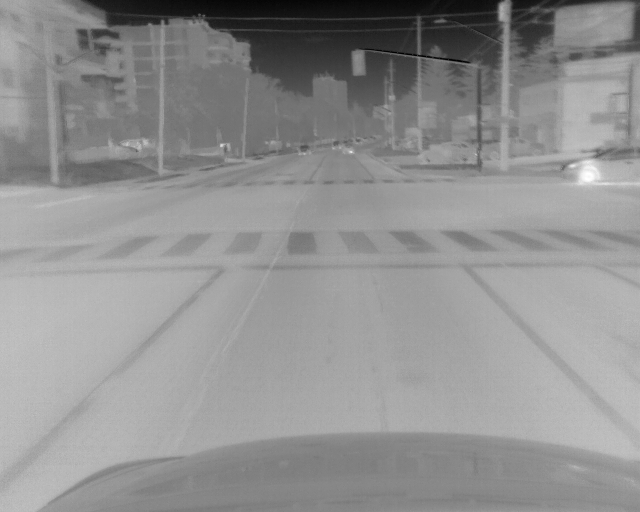car: (561, 140, 640, 187), (342, 142, 354, 156), (298, 145, 312, 156), (332, 140, 342, 150), (353, 137, 364, 145)
